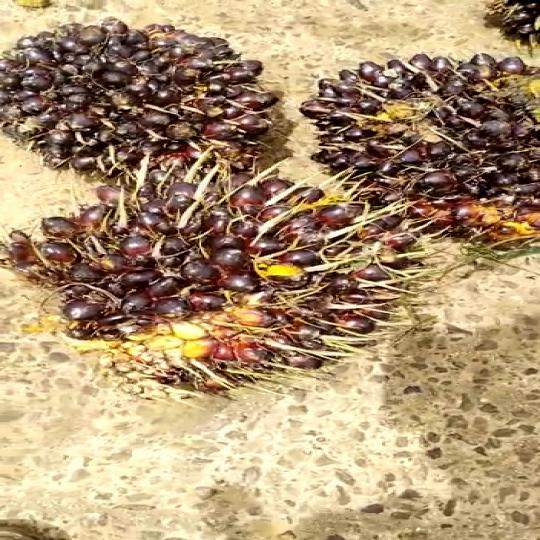kurang masak: (25, 166, 415, 422), (319, 42, 540, 272), (0, 15, 288, 187)
